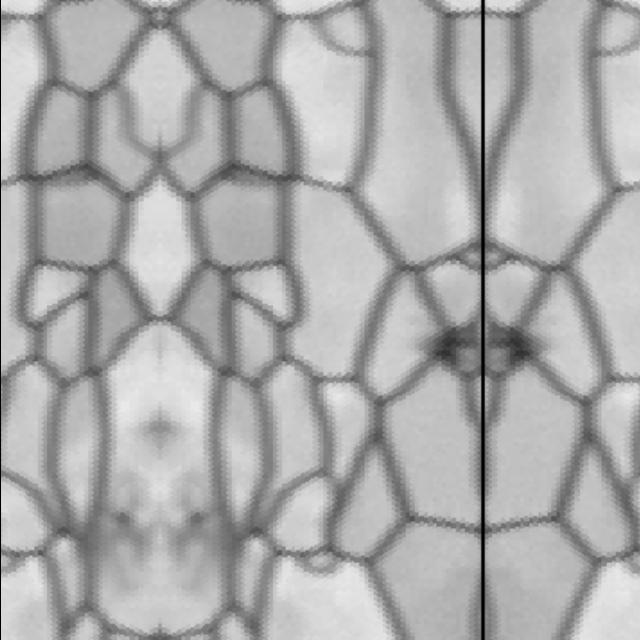good_void: (158, 467, 302, 609), (14, 467, 158, 609), (406, 317, 483, 384), (482, 318, 555, 382)
